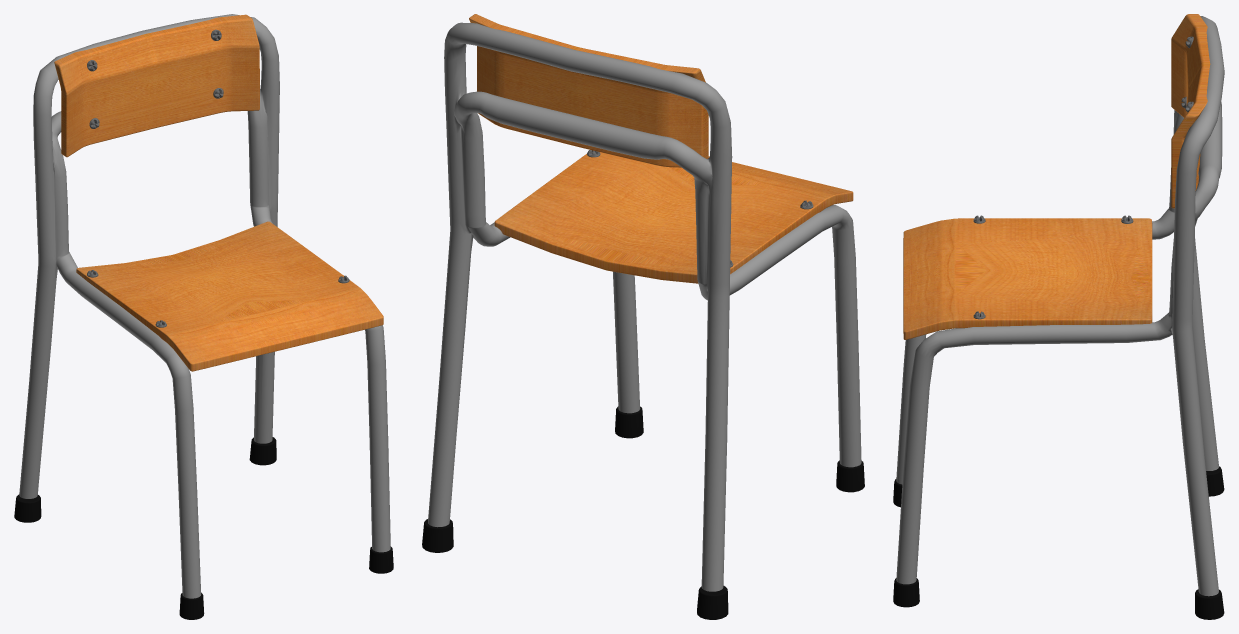
File: SchoolIsu.obj
3 renders of one model, left to right at view 1: azimuth 30°, elevation 25°; view 2: azimuth 150°, elevation 25°; view 3: azimuth 270°, elevation 25°, orthographic. The views are drawn at different scales.
Visible parts, largest first — view 1: SchoolISU:nurbsToPoly4; view 2: SchoolISU:nurbsToPoly4; view 3: SchoolISU:nurbsToPoly4.
Boxes of the visible parts, x1,y1,x2,y2 form: SchoolISU:nurbsToPoly4: [14, 14, 393, 619]; SchoolISU:nurbsToPoly4: [422, 14, 864, 619]; SchoolISU:nurbsToPoly4: [893, 14, 1224, 619].
Bounding box in the file's own units: 8.39 × 14.09 × 8.66.
4 materials, 1 textured.
